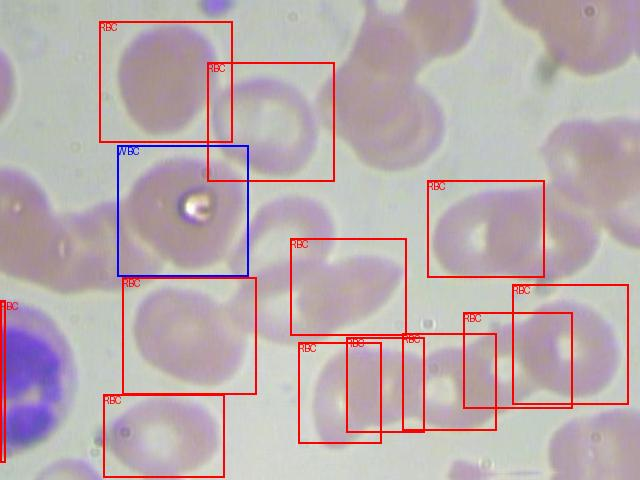RBC: (99, 21, 232, 142), (122, 277, 256, 394), (207, 62, 334, 181), (512, 284, 628, 404), (427, 180, 544, 277), (290, 238, 406, 335), (463, 312, 572, 408), (103, 394, 224, 477), (402, 333, 496, 430), (298, 342, 381, 443), (346, 337, 424, 432), (0, 300, 5, 462)
WBC: (117, 145, 248, 276)
